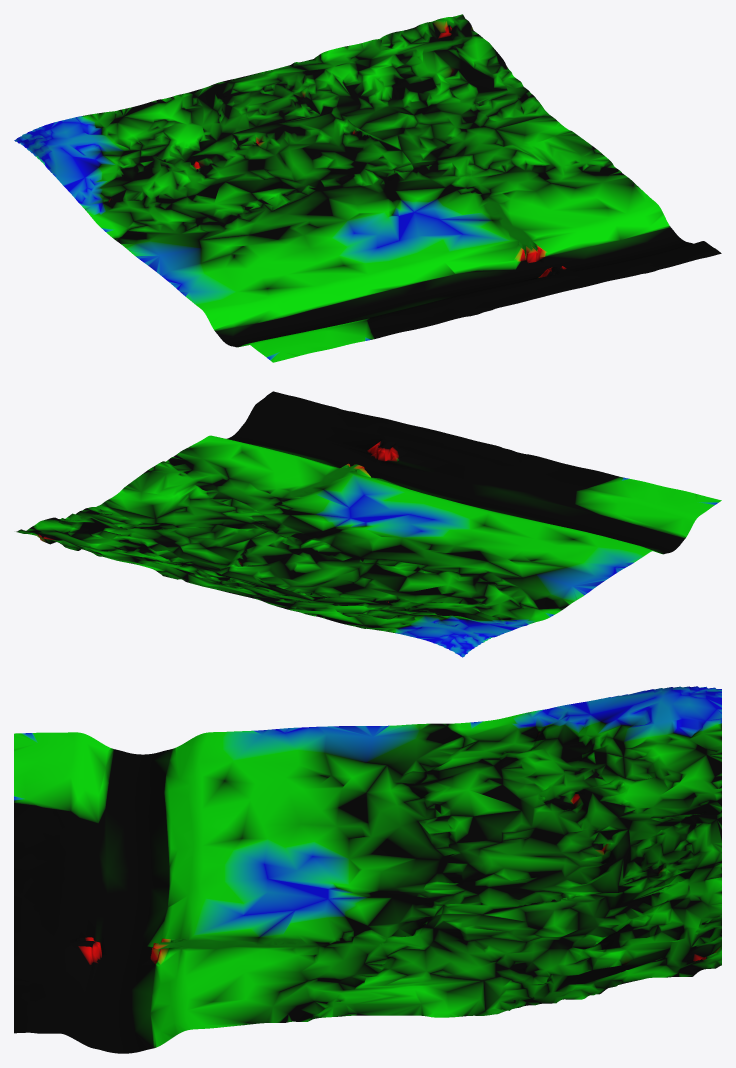
3 renders of one model, top to bottom at view 1: azimuth 30°, elevation 25°; view 2: azimuth 150°, elevation 25°; view 3: azimuth 270°, elevation 25°, orthographic. The views are drawn at different scales.
Parts seen in each view (by area): view 1: N_1_1; view 2: N_1_1; view 3: N_1_1.
Boxes of the visible parts, x1,y1,x2,y2 form: N_1_1: (14, 14, 721, 362); N_1_1: (16, 391, 721, 657); N_1_1: (14, 686, 721, 1053).
Size of the model in its own units: 256 by 35.85 by 256.
